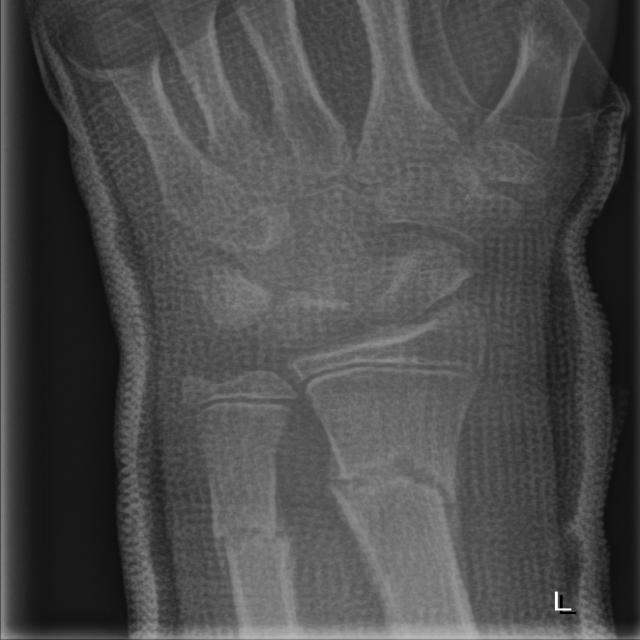radius fracture: (310, 428, 491, 618)
ulna fracture: (180, 459, 309, 620)
